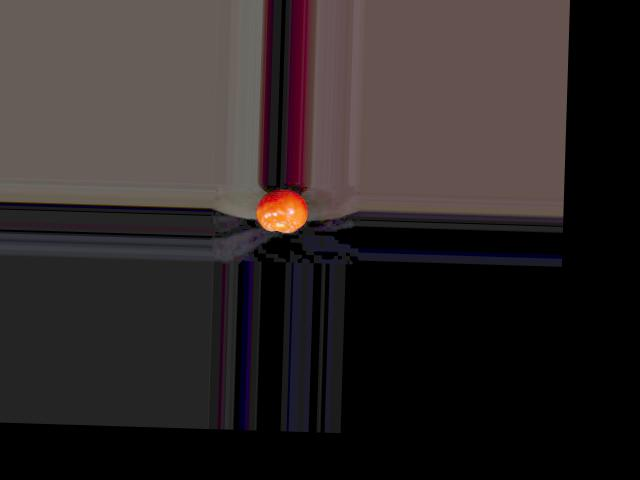tomato: (255, 188, 309, 233)
